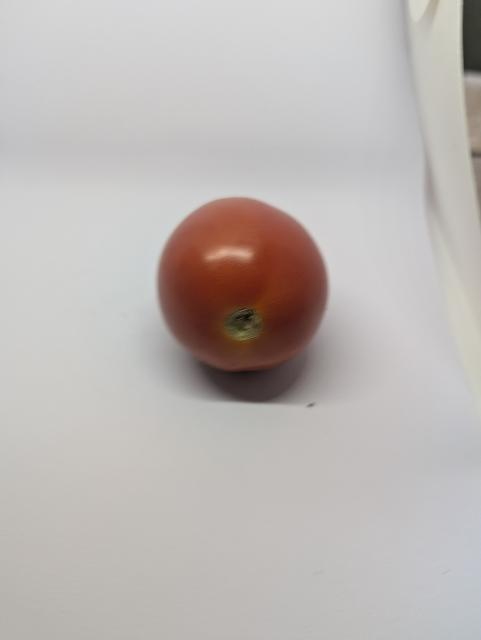red: (147, 189, 334, 387)
